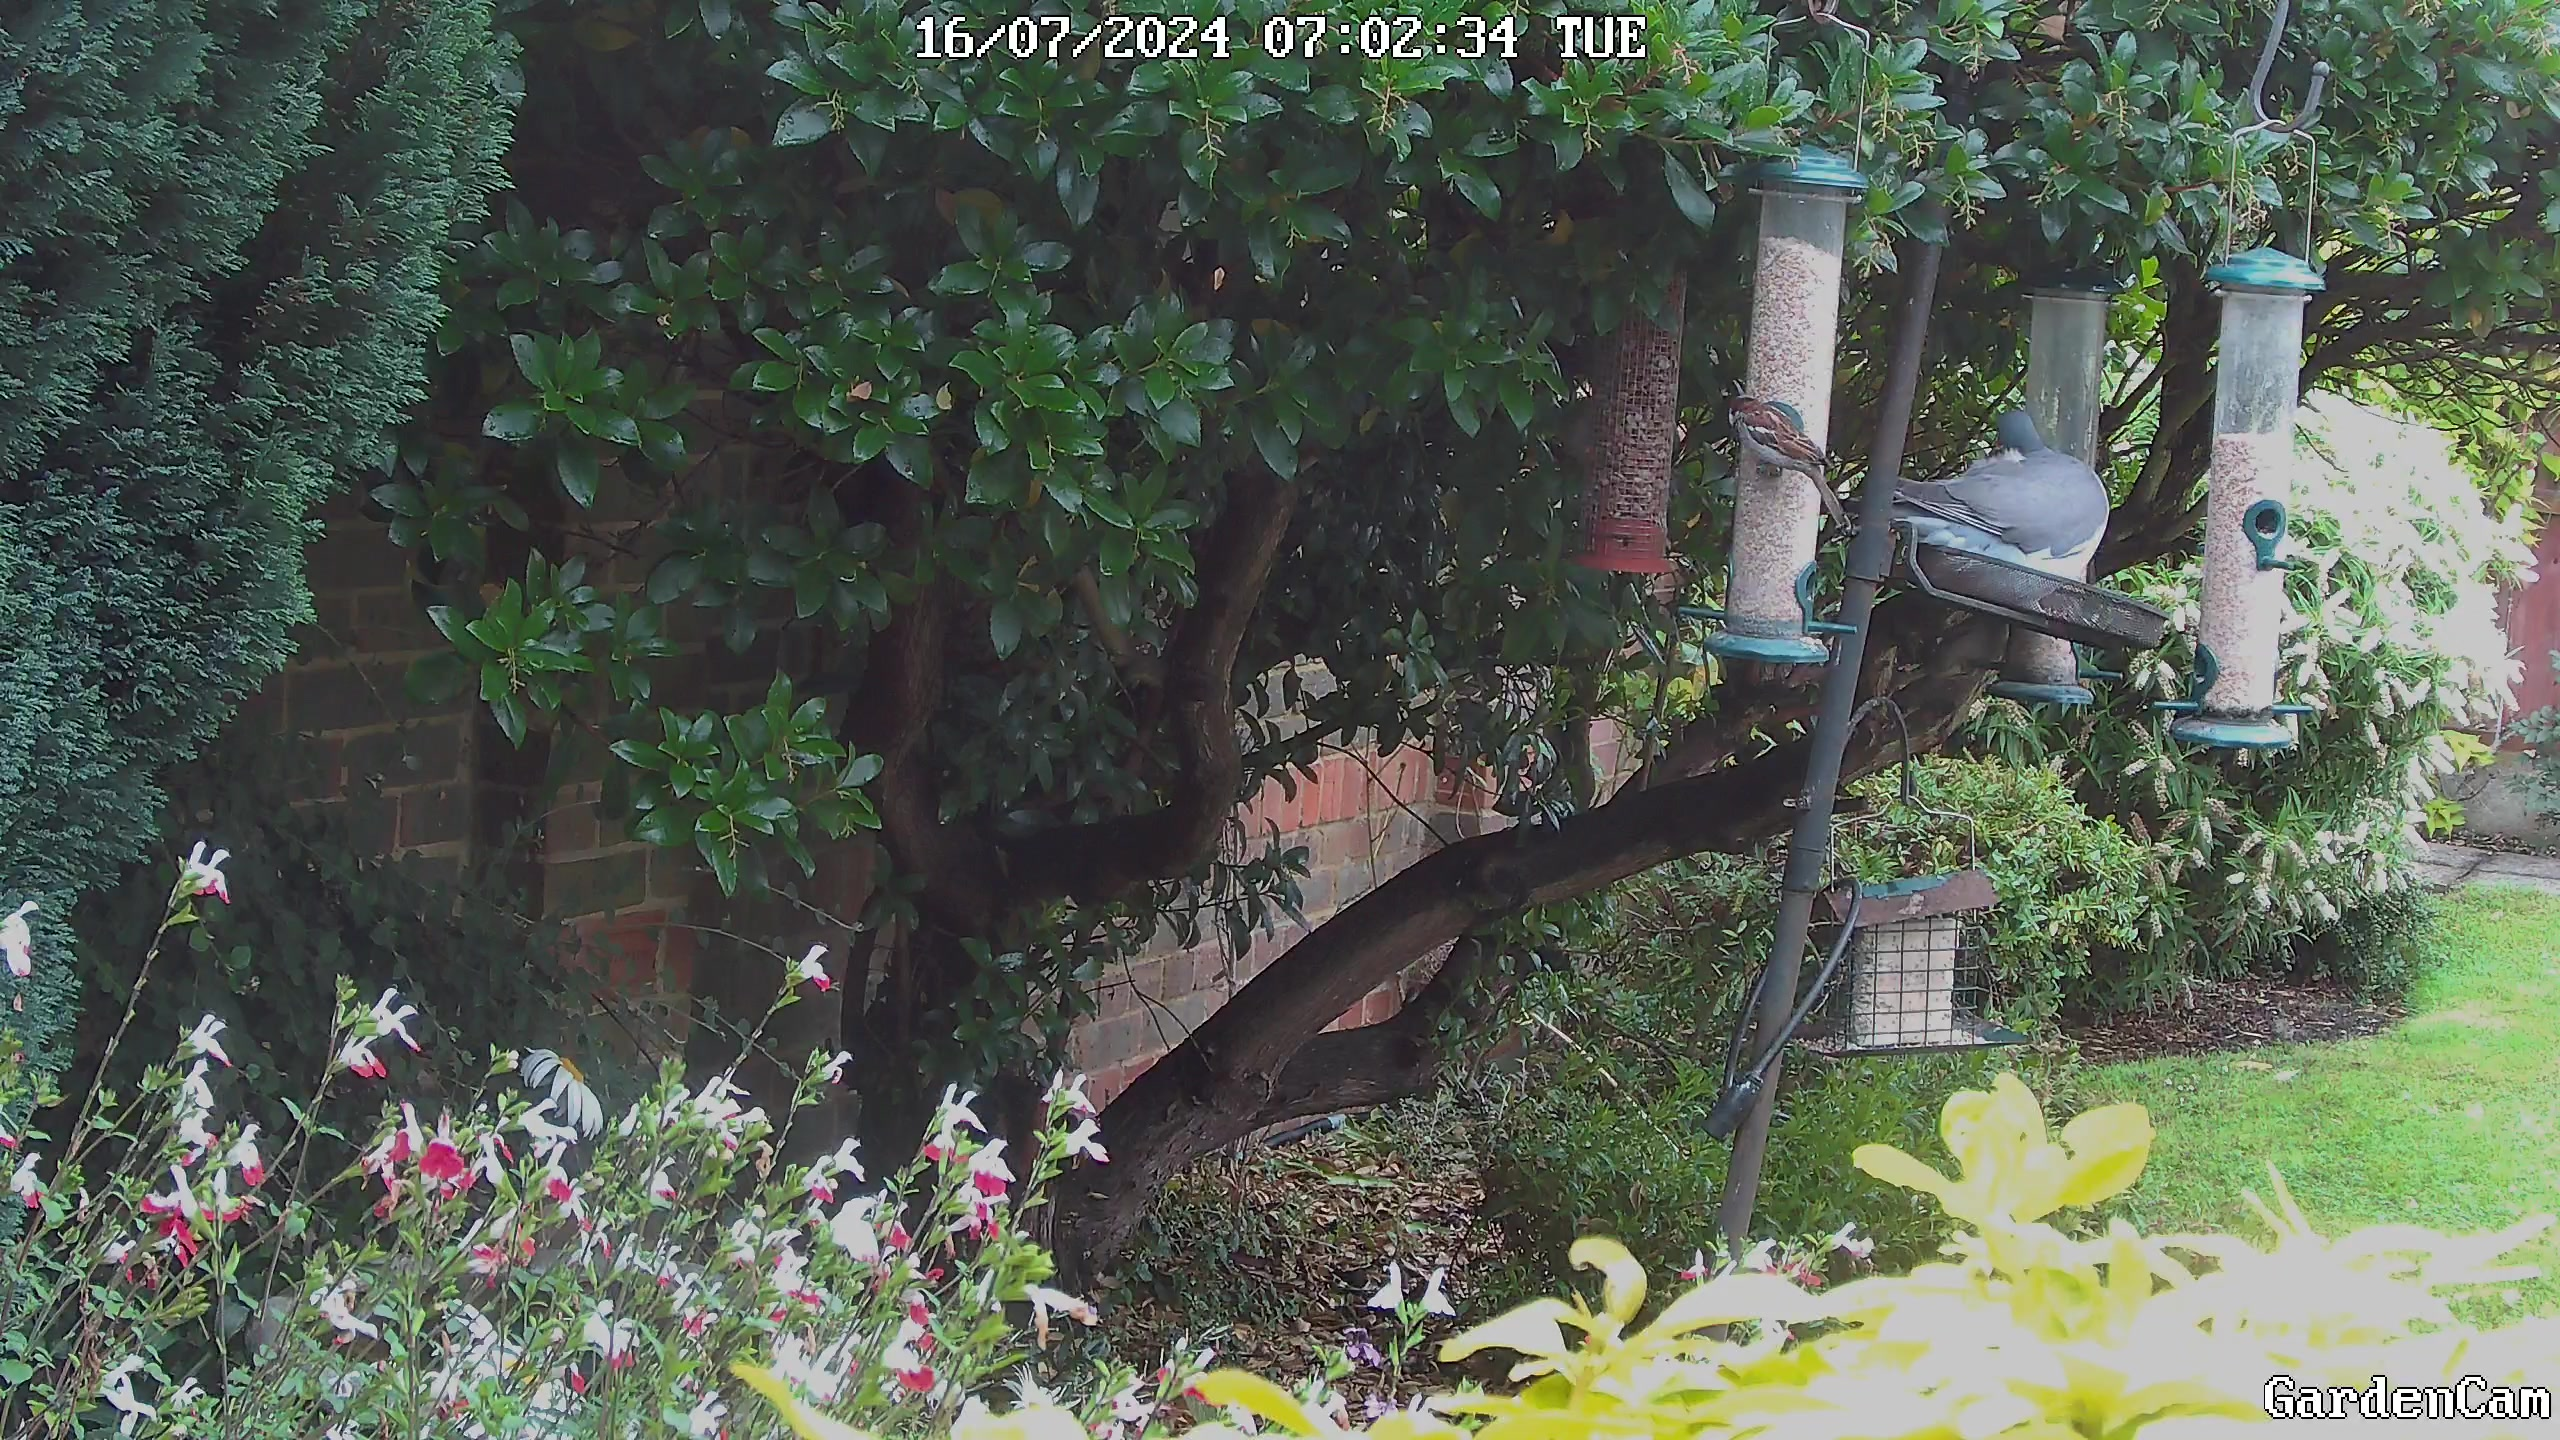House_Sparrow: (1684, 373, 1878, 515)
Wood_Pigeon: (1869, 380, 2108, 614)
